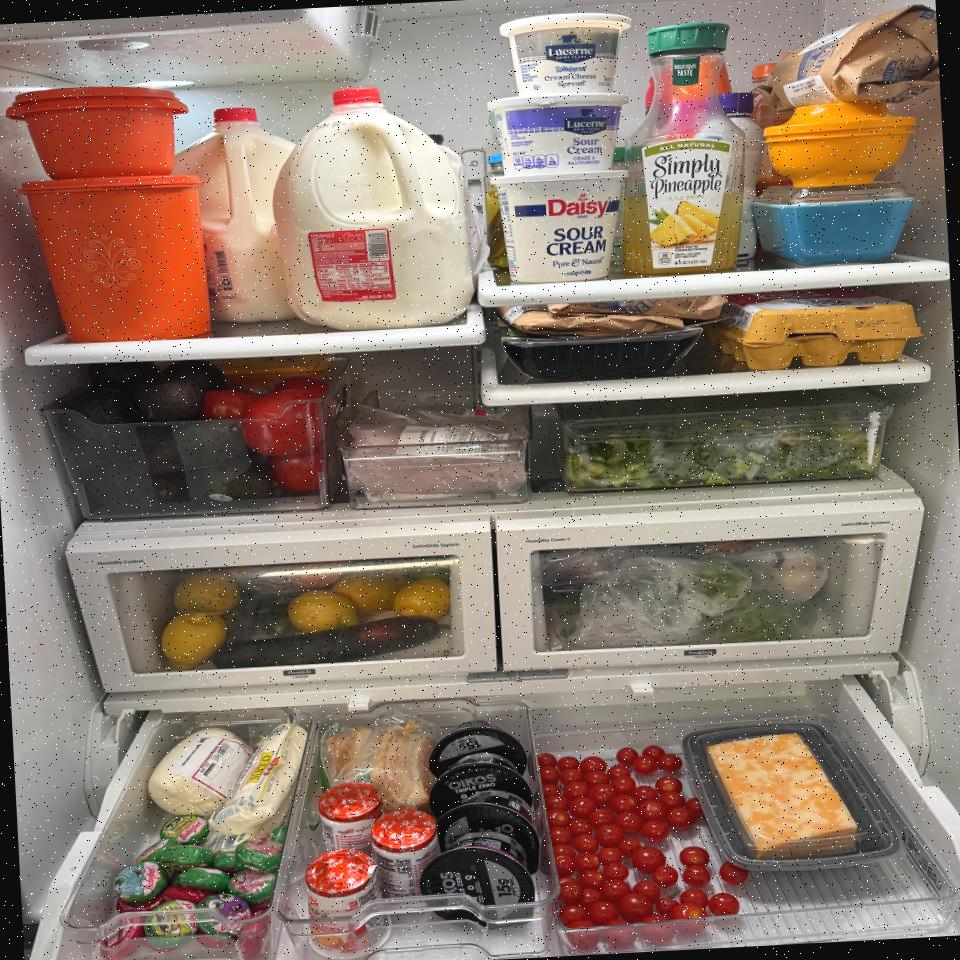Aguacate: (126, 420, 242, 478), (79, 466, 180, 515), (63, 384, 135, 440), (190, 460, 276, 506), (137, 376, 207, 425)
Huevos: (730, 286, 923, 372)
Leche: (268, 82, 484, 334), (171, 100, 302, 324)
Limón: (159, 608, 224, 670), (172, 570, 246, 616), (286, 590, 362, 633), (396, 576, 453, 622)
Pepino: (212, 613, 454, 670)
Queso: (702, 730, 860, 862)
Tomate: (534, 736, 750, 955), (241, 384, 326, 451), (271, 450, 329, 494), (204, 386, 264, 420)
Yogur: (491, 169, 636, 287), (482, 92, 623, 178)
